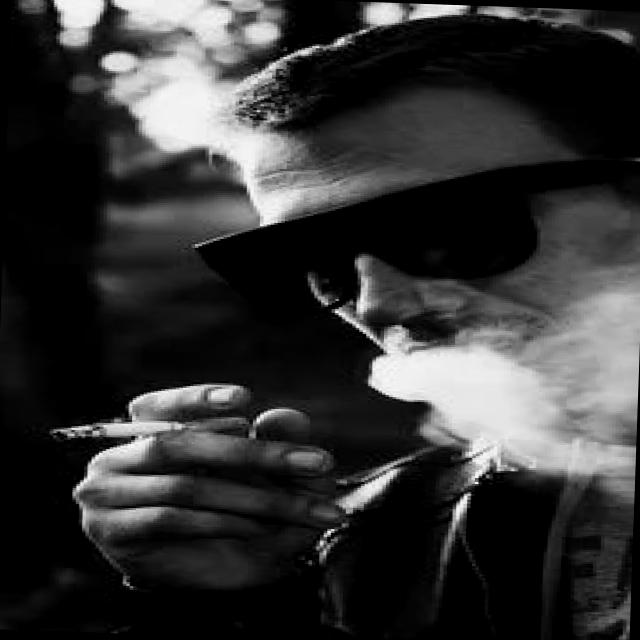smoke: (42, 404, 266, 450)
